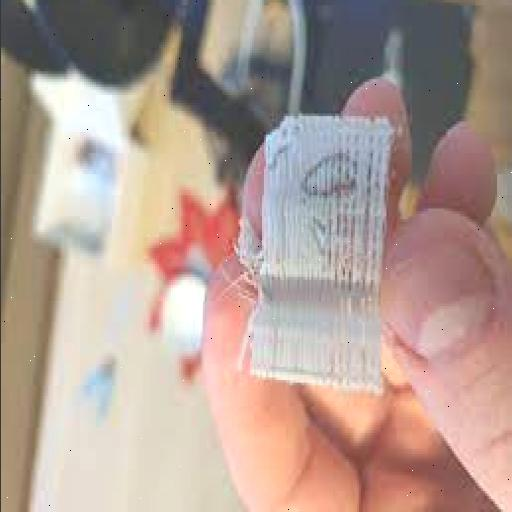spaghetti: (220, 123, 296, 377)
